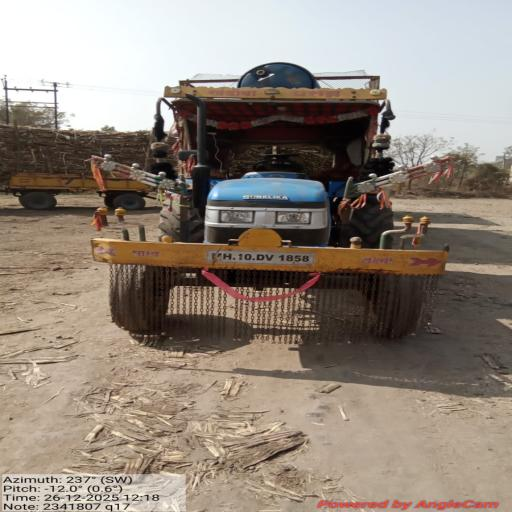number_plate: (198, 246, 322, 270)
